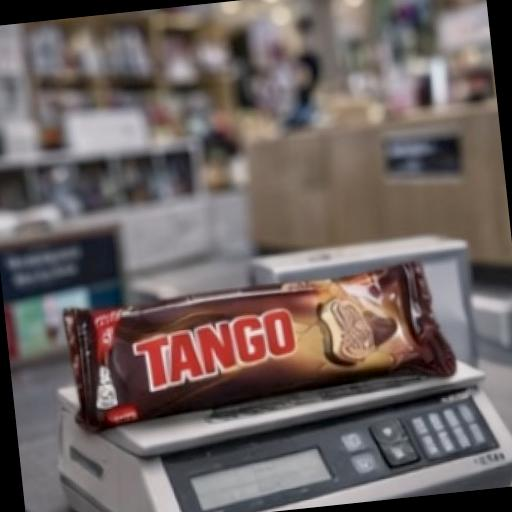tango: (33, 210, 512, 459)
